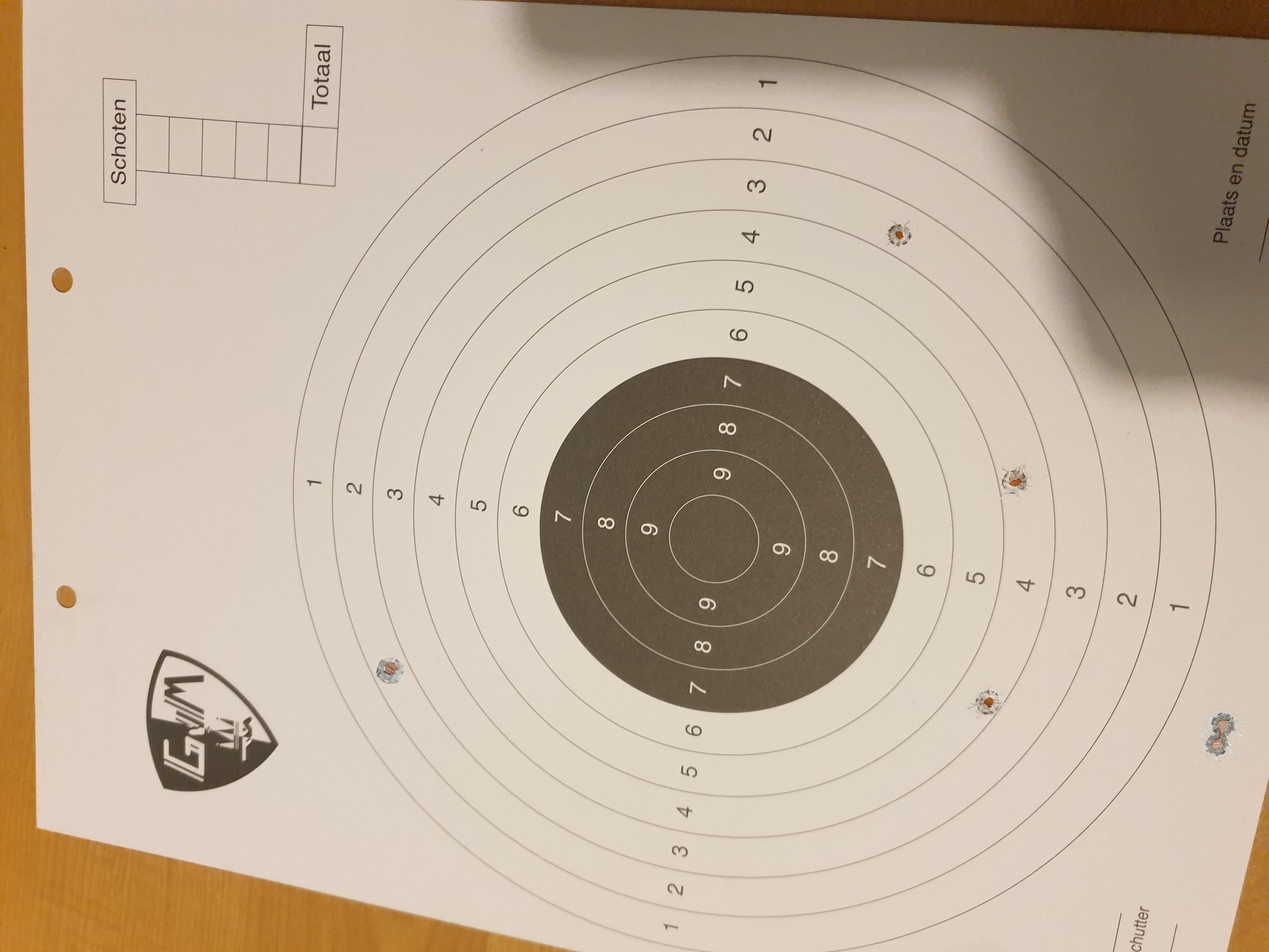hole: (967, 686, 1007, 719), (1000, 463, 1033, 499), (1201, 709, 1243, 735), (1202, 735, 1239, 762), (375, 657, 405, 687), (885, 218, 912, 248)
